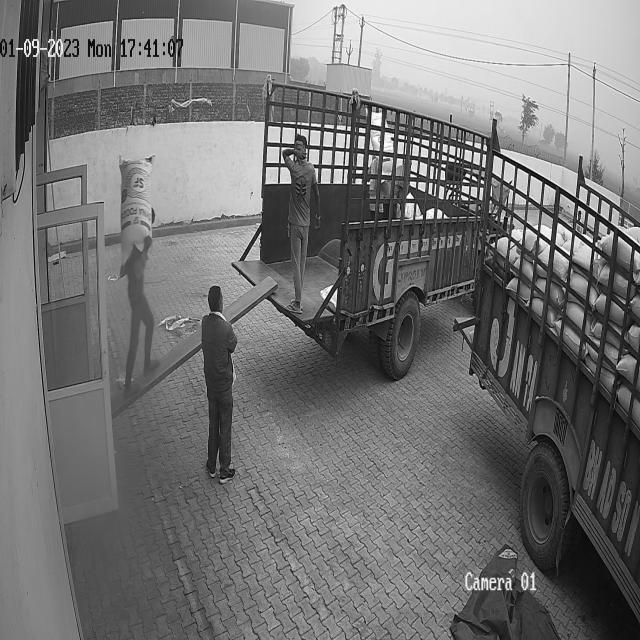sack: (118, 154, 154, 266)
